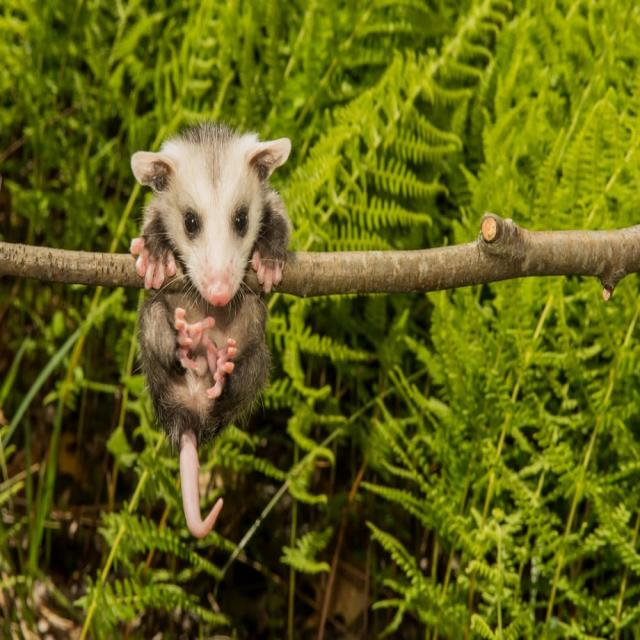Possum: (126, 118, 292, 541)
